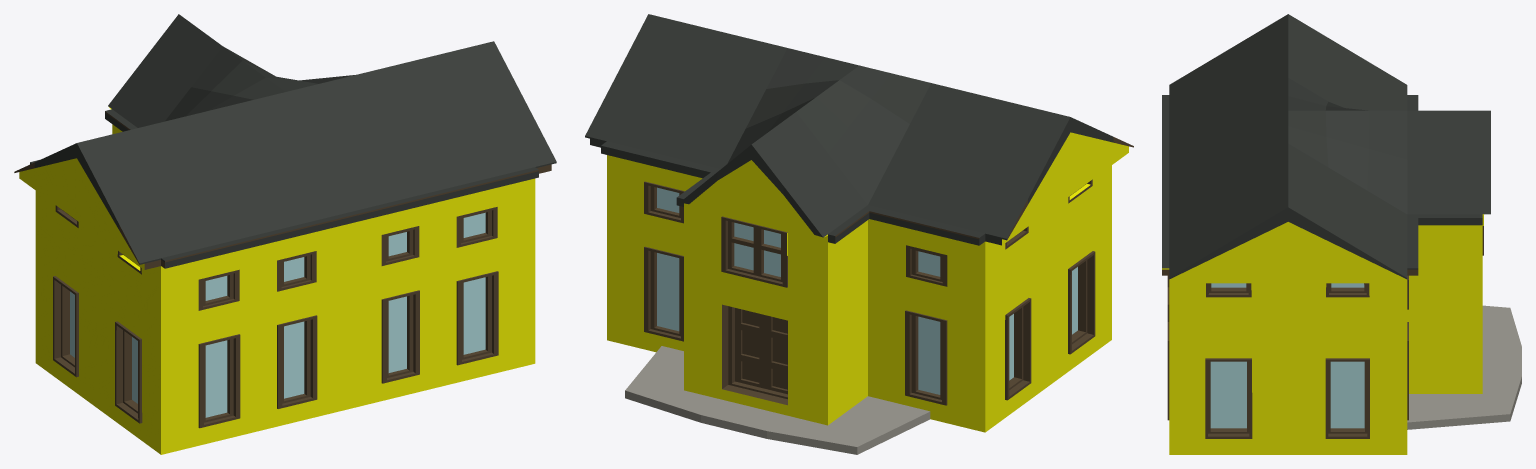
Rendered from yellowvilla.fbx.
3 renders of one model, left to right at view 1: azimuth 30°, elevation 25°; view 2: azimuth 150°, elevation 25°; view 3: azimuth 270°, elevation 25°, orthographic. The views are drawn at different scales.
Visible parts, largest first — view 1: Cube; view 2: Cube; view 3: Cube.
Part boxes in pixels (x1,y1,x2,y2): Cube: (14, 14, 556, 454); Cube: (585, 14, 1133, 454); Cube: (1162, 14, 1521, 454).
Bounding box in the file's own units: 8.76 × 5.44 × 6.89.
